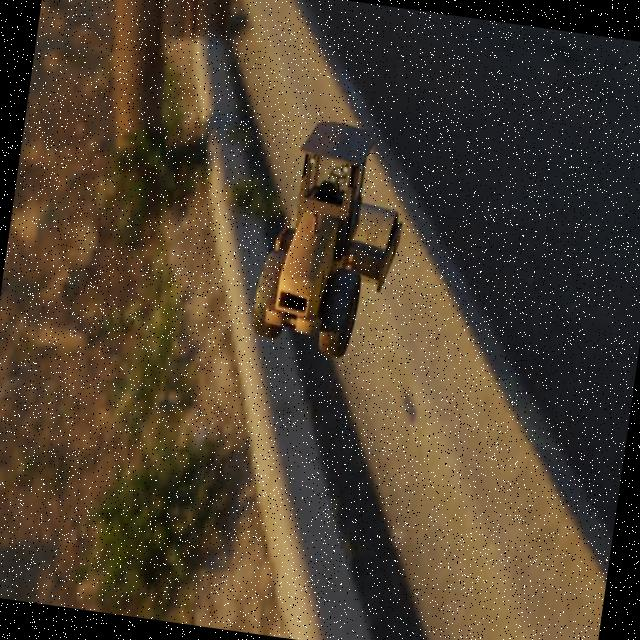Roller: (248, 114, 416, 366)
